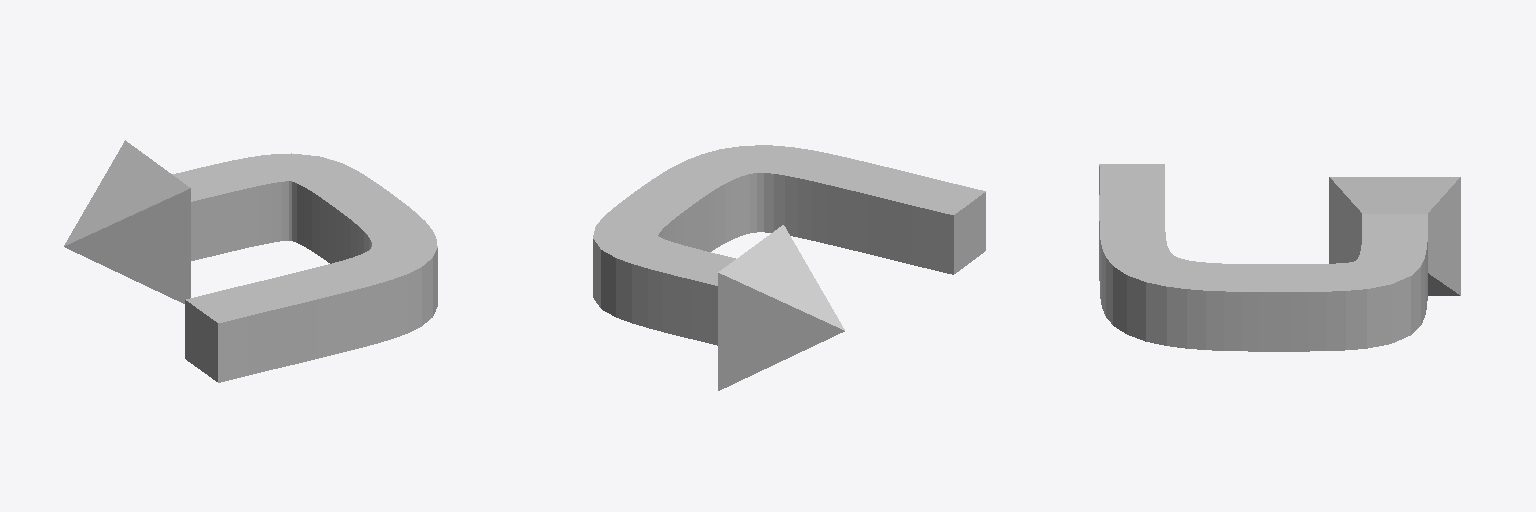
The model's file is Undo.obj.
The picture shows the model from 3 angles: view 1: azimuth 30°, elevation 25°; view 2: azimuth 150°, elevation 25°; view 3: azimuth 270°, elevation 25°; orthographic projection.
Parts seen in each view (by area): view 1: Cube_Cube.001; view 2: Cube_Cube.001; view 3: Cube_Cube.001.
Boxes of the visible parts, <box> form: Cube_Cube.001: <box>64,140,437,382</box>; Cube_Cube.001: <box>593,145,985,390</box>; Cube_Cube.001: <box>1099,164,1460,351</box>.
Size of the model in its own units: 2.37 by 1 by 2.75.